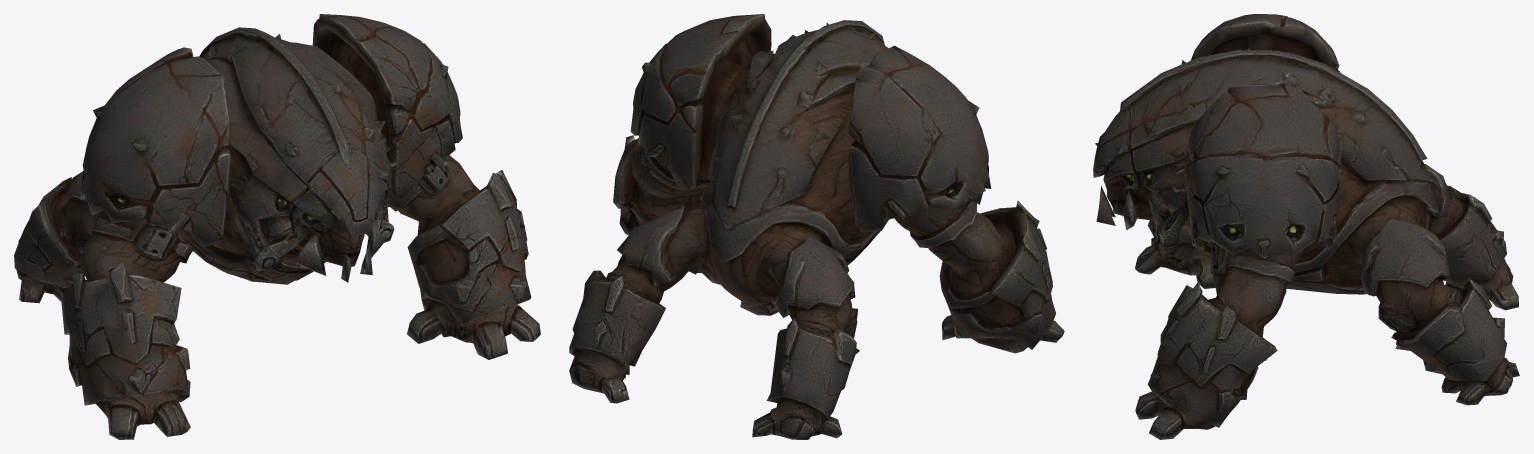
The model's file is Tankl.glb.
3 views of the same model, side by side, from view 1: azimuth 30°, elevation 25°; view 2: azimuth 150°, elevation 25°; view 3: azimuth 270°, elevation 25° (orthographic). The views are drawn at different scales.
Visible parts, largest first — view 1: tripo_node_fa722de3-2649-4e96-a323-126f228e8aa9; view 2: tripo_node_fa722de3-2649-4e96-a323-126f228e8aa9; view 3: tripo_node_fa722de3-2649-4e96-a323-126f228e8aa9.
Boxes of the visible parts, <box> form: tripo_node_fa722de3-2649-4e96-a323-126f228e8aa9: <box>14,14,540,439</box>; tripo_node_fa722de3-2649-4e96-a323-126f228e8aa9: <box>569,14,1064,439</box>; tripo_node_fa722de3-2649-4e96-a323-126f228e8aa9: <box>1093,14,1519,439</box>.
Size of the model in its own units: 1 by 0.6632 by 0.8768.
Materials: 1 (1 with a texture image).
